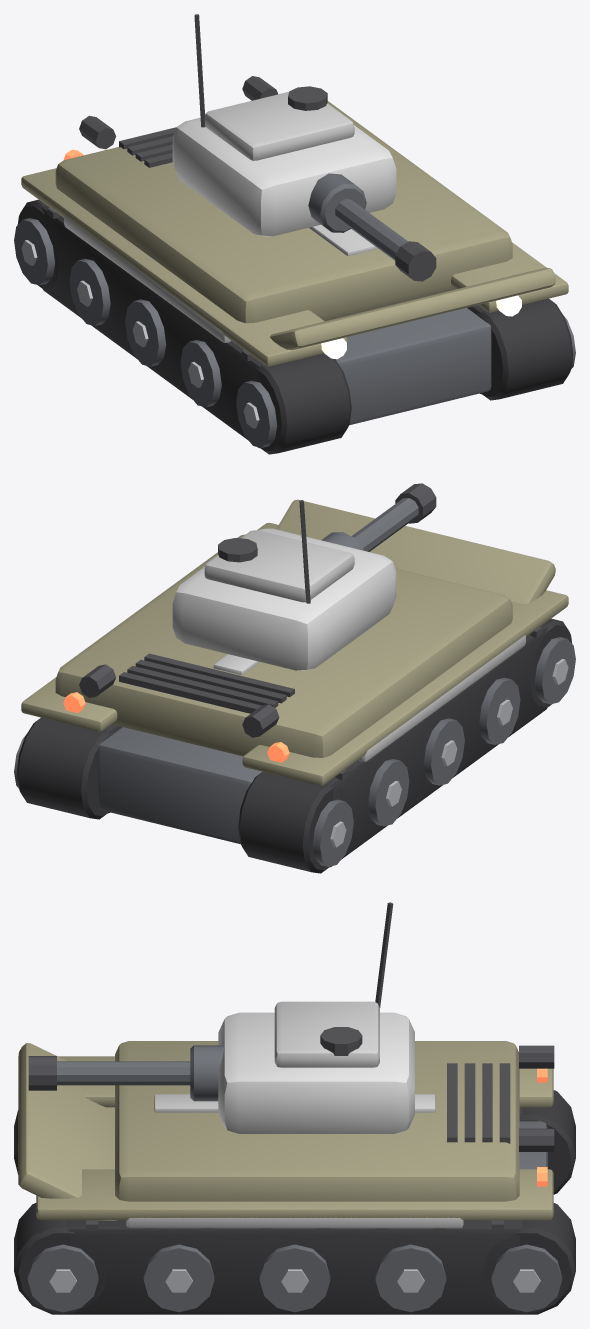
The model's file is tank_light.glb.
The picture shows the model from 3 angles, top to bottom: view 1: azimuth 30°, elevation 25°; view 2: azimuth 150°, elevation 25°; view 3: azimuth 270°, elevation 25°; orthographic projection. The views are drawn at different scales.
Parts seen in each view (by area): view 1: tank_light, turret; view 2: tank_light, turret; view 3: tank_light, turret.
Boxes of the visible parts, bbox=[...] form: tank_light: bbox=[14, 76, 575, 454]; turret: bbox=[172, 14, 436, 281]; tank_light: bbox=[14, 499, 575, 873]; turret: bbox=[172, 483, 436, 670]; tank_light: bbox=[14, 1041, 575, 1314]; turret: bbox=[28, 902, 414, 1133].
Bounding box in the file's own units: 1.07 × 0.9849 × 1.6.
